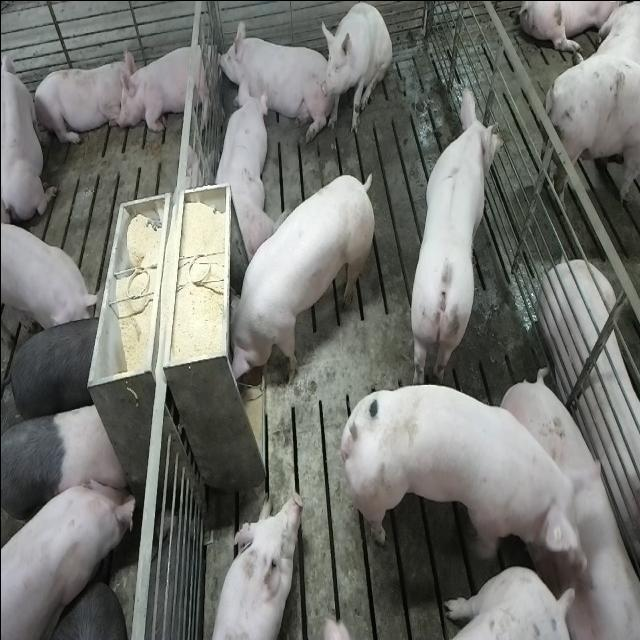Feeding: (218, 170, 369, 392)
Lateral_lying: (538, 256, 640, 628)
Sitting: (318, 2, 392, 137)
Standing: (337, 378, 590, 596), (407, 80, 503, 380), (2, 473, 138, 640), (2, 401, 130, 561), (536, 60, 640, 224), (0, 222, 100, 341), (2, 314, 102, 424)
Sternal_lying: (203, 486, 301, 640), (216, 15, 326, 136), (210, 78, 272, 258), (2, 39, 56, 224), (117, 36, 215, 136), (31, 52, 130, 148)
